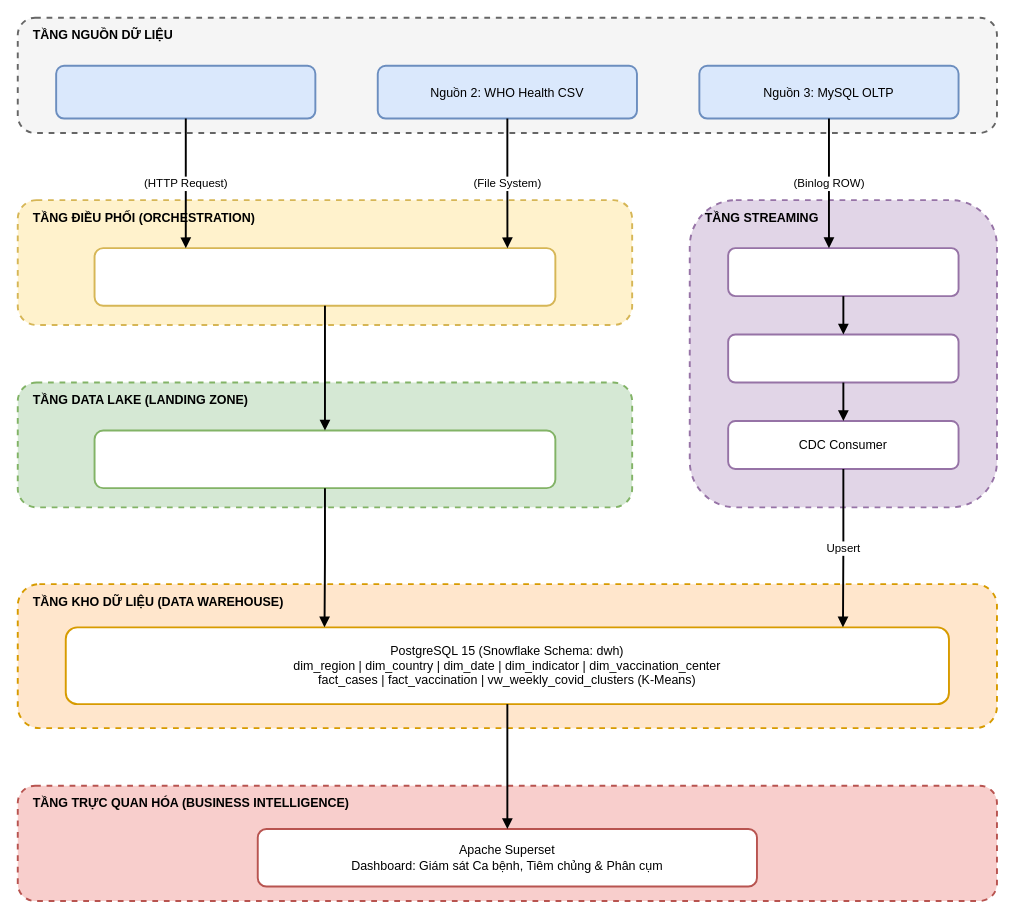
Image size: 1014x918. Some labels were removed from this diagram. The shapes that lost their labels are listed below. From the top down, each one's centre as x and y in pixels, then its label:
At [185,91]: "Nguồn 1: OWID REST API".
At [324,276]: "Apache Airflow (LocalExecutor) DAG: health_data_pipeline (Extract → Load)".
At [843,272]: "Debezium CDC Connect".
At [843,358]: "Apache Kafka".
At [324,459]: "MinIO Object Storage (S3 API) Bucket: covid19-landing-zone (raw/...)".
